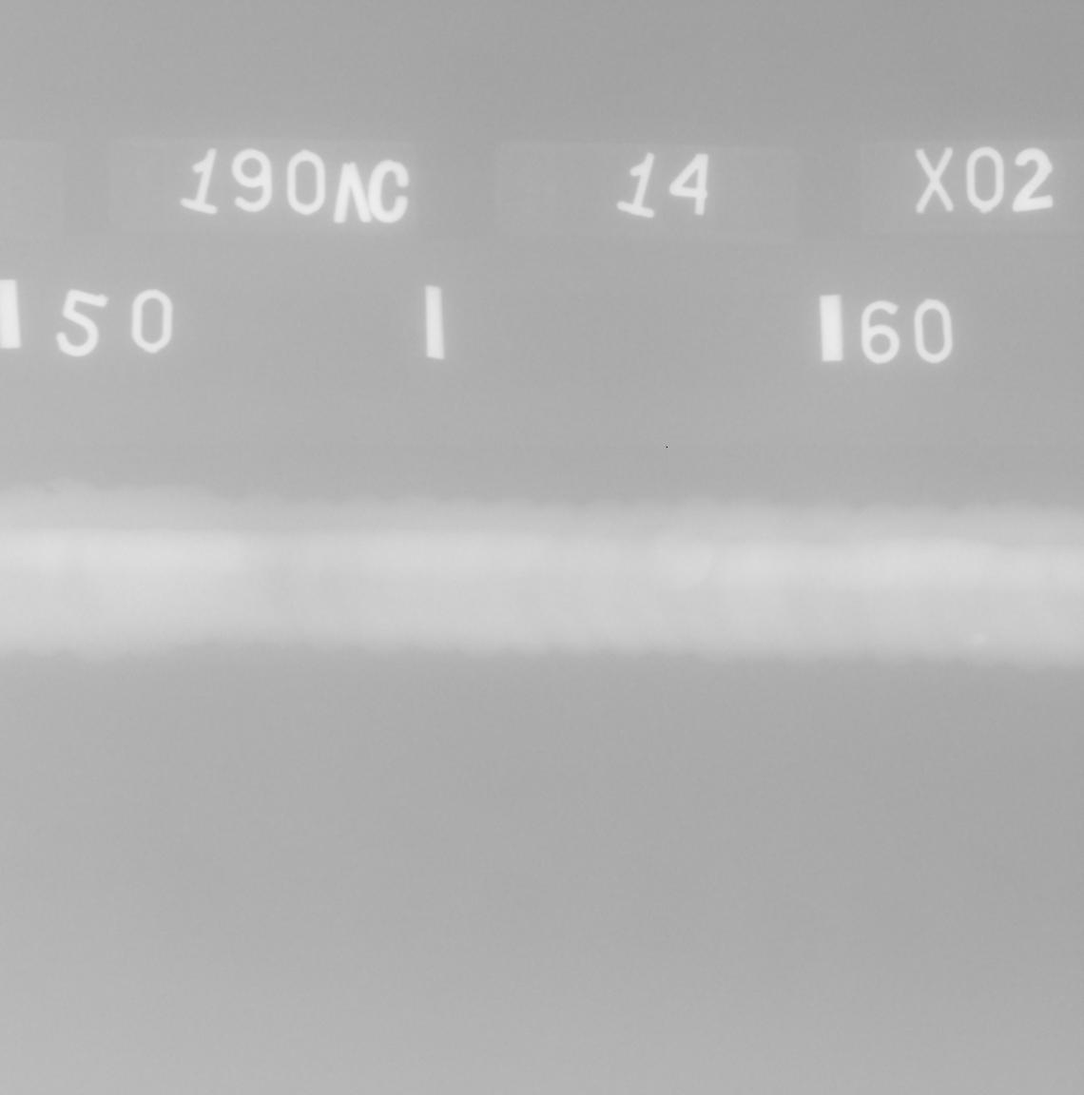Inclusion: (657, 524, 662, 530)
Pore/Porosity: (1045, 575, 1052, 579)
